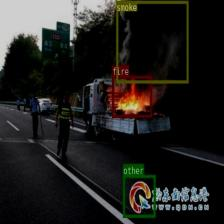fire: (112, 75, 152, 117)
smoke: (116, 0, 188, 83)
